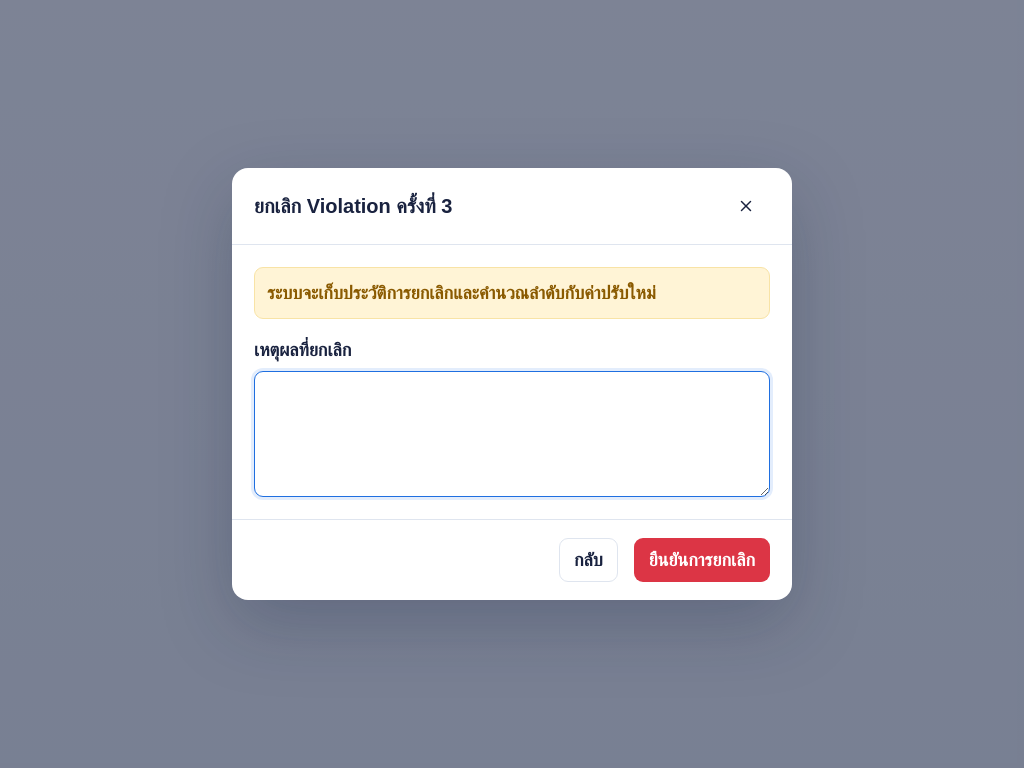
Test: CancelViolationModal › shows recalculation warning and validates a trimmed reason
The width and height of the screenshot is (1024, 768).
Expected: the text "ระบบจะเก็บประวัติการยกเลิกและคำนวณลำดับกับค่าปรับใหม่" is shown, [254,267,770,319]
Step 1. Type "ผิด" into the text box labelled "เหตุผลที่ยกเลิก" → (512, 434), box [254,371,770,497]
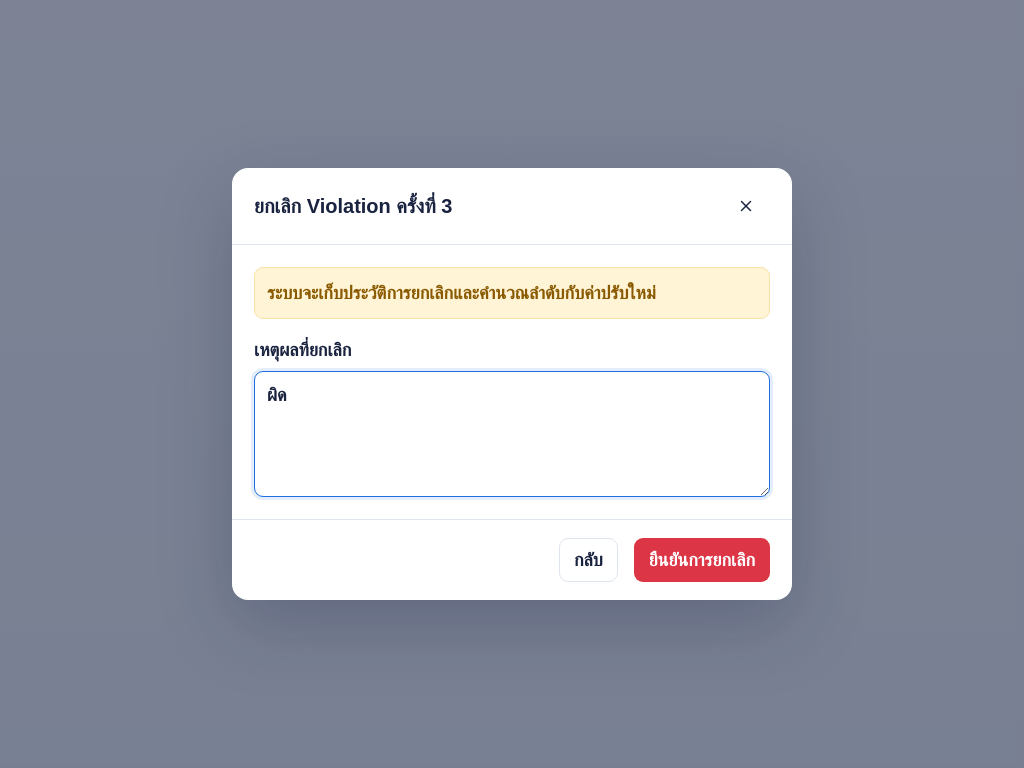
Step 2. Click the button "ยืนยันการยกเลิก" → (702, 560), box [634,538,770,582]
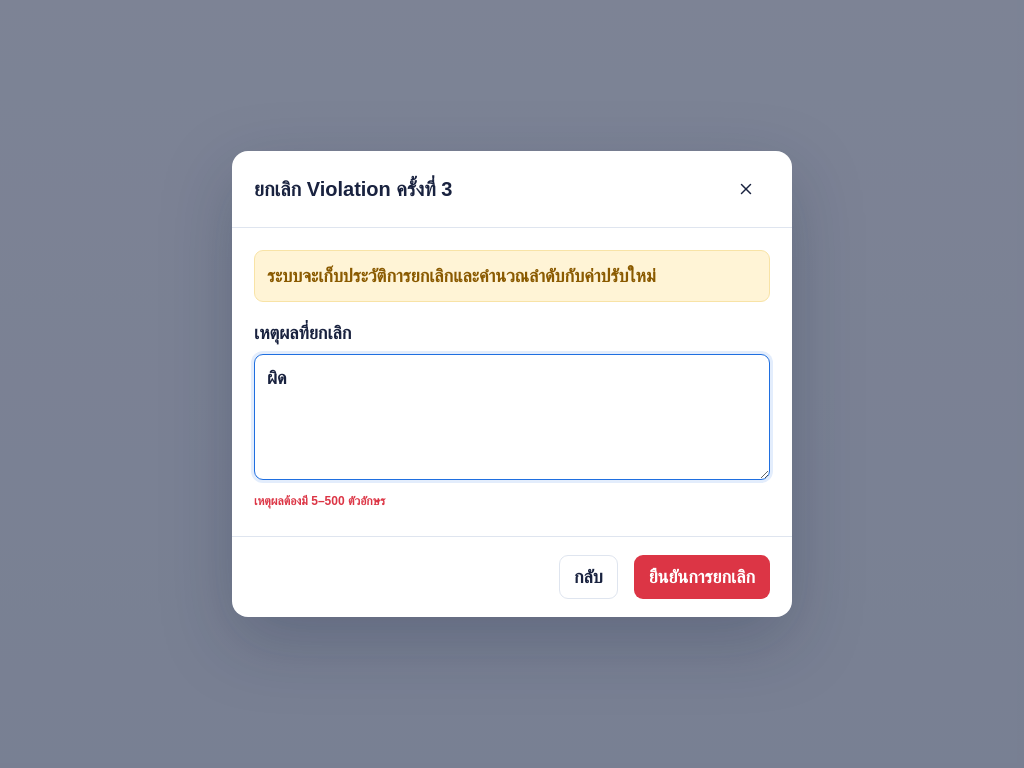
Result: the text "เหตุผลต้องมี 5–500 ตัวอักษร" is shown at [254,494,385,508]
